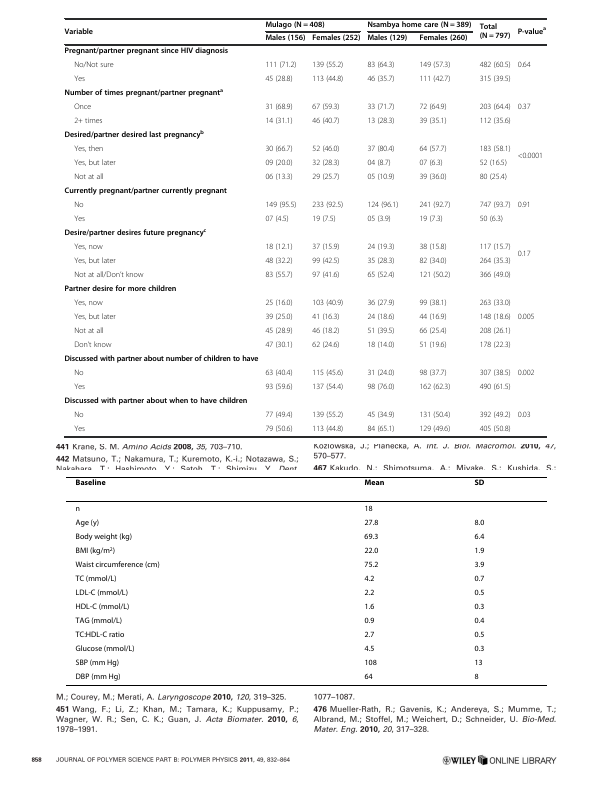borderless: (63, 17, 546, 436), (65, 475, 547, 685)
cell: (64, 355, 259, 365), (64, 397, 248, 407), (64, 88, 224, 99), (64, 47, 229, 57), (64, 187, 228, 197), (64, 228, 207, 239), (64, 130, 205, 141), (64, 285, 177, 295), (366, 21, 472, 30), (75, 560, 161, 570), (73, 271, 145, 280), (75, 644, 136, 654), (75, 532, 133, 542), (479, 23, 511, 41), (75, 602, 130, 612), (264, 21, 325, 30), (75, 588, 129, 598), (311, 34, 361, 44), (418, 34, 468, 44), (75, 630, 125, 640), (75, 616, 123, 626), (75, 672, 121, 682), (75, 658, 120, 668), (264, 34, 306, 44), (366, 34, 408, 44), (75, 574, 117, 584), (75, 546, 116, 556), (73, 159, 117, 168), (73, 257, 117, 266), (73, 313, 117, 322), (73, 61, 114, 70), (73, 341, 112, 350), (517, 26, 547, 37), (64, 27, 94, 37), (264, 61, 297, 70), (311, 61, 344, 70), (418, 61, 451, 70), (311, 75, 344, 84), (418, 75, 451, 84), (264, 201, 297, 210), (311, 201, 344, 210), (366, 201, 399, 210), (418, 201, 451, 210), (418, 271, 451, 280), (311, 299, 344, 308), (311, 369, 344, 378), (311, 383, 344, 392), (418, 383, 451, 392), (311, 411, 344, 420), (418, 411, 451, 420), (311, 425, 344, 434), (418, 425, 451, 434), (479, 61, 511, 70), (479, 75, 511, 84), (479, 103, 511, 112), (479, 117, 511, 126), (479, 145, 511, 154), (479, 201, 511, 210), (479, 243, 511, 252), (479, 257, 511, 266), (479, 271, 511, 280), (479, 299, 511, 308), (479, 313, 511, 322), (479, 327, 511, 336), (479, 341, 511, 350), (479, 369, 511, 378), (479, 383, 511, 392), (479, 411, 511, 420), (479, 425, 511, 434), (73, 145, 104, 154), (73, 173, 104, 182), (73, 243, 104, 252), (73, 299, 104, 308), (73, 327, 104, 336), (73, 117, 103, 126), (366, 61, 395, 70), (264, 75, 293, 84), (366, 75, 395, 84), (264, 103, 293, 112), (311, 103, 340, 112), (366, 103, 395, 112), (418, 103, 447, 112), (264, 117, 293, 126), (311, 117, 340, 126), (366, 117, 395, 126), (418, 117, 447, 126), (264, 145, 293, 154), (311, 145, 340, 154), (366, 145, 395, 154), (418, 145, 447, 154), (264, 159, 293, 168), (311, 159, 340, 168), (479, 159, 508, 168), (264, 173, 293, 182), (311, 173, 340, 182), (366, 173, 395, 182), (418, 173, 447, 182), (479, 173, 508, 182), (264, 243, 293, 252), (311, 243, 340, 252), (366, 243, 395, 252), (418, 243, 447, 252), (264, 257, 293, 266), (311, 257, 340, 266), (366, 257, 395, 266), (418, 257, 447, 266), (264, 271, 293, 280), (311, 271, 340, 280), (366, 271, 395, 280), (264, 299, 293, 308), (366, 299, 395, 308), (418, 299, 447, 308), (264, 313, 293, 322), (311, 313, 340, 322), (366, 313, 395, 322), (418, 313, 447, 322), (264, 327, 293, 336), (311, 327, 340, 336), (366, 327, 395, 336), (418, 327, 447, 336), (264, 341, 293, 350), (311, 341, 340, 350), (366, 341, 395, 350), (418, 341, 447, 350), (264, 369, 293, 378), (366, 369, 395, 378), (418, 369, 447, 378), (264, 383, 293, 392), (366, 383, 395, 392), (264, 411, 293, 420), (366, 411, 395, 420), (264, 425, 293, 434), (366, 425, 395, 434), (75, 478, 107, 486), (75, 518, 100, 528), (517, 152, 544, 161), (366, 159, 392, 168), (418, 159, 444, 168), (264, 215, 290, 224), (366, 215, 392, 224), (418, 215, 444, 224), (311, 215, 336, 224), (479, 215, 504, 224), (363, 478, 385, 486), (73, 103, 92, 112), (517, 313, 535, 322), (517, 369, 535, 378), (363, 518, 379, 528), (363, 532, 379, 542), (363, 546, 379, 556), (363, 560, 379, 570), (363, 658, 378, 668), (517, 61, 531, 70), (517, 103, 531, 112), (517, 201, 531, 210), (517, 250, 531, 259), (517, 411, 531, 420), (473, 518, 485, 528), (473, 532, 485, 542), (473, 546, 485, 556), (473, 560, 485, 570), (363, 574, 375, 584), (473, 574, 485, 584), (363, 588, 375, 598), (473, 588, 485, 598), (363, 602, 375, 612), (473, 602, 485, 612), (363, 616, 375, 626), (473, 616, 485, 626), (363, 630, 375, 640), (473, 630, 485, 640), (363, 644, 375, 654), (73, 75, 86, 84), (73, 215, 86, 224), (73, 383, 86, 392), (73, 425, 86, 434), (363, 504, 374, 514), (474, 644, 485, 654), (473, 658, 484, 668), (363, 672, 374, 682), (73, 201, 84, 210), (73, 369, 84, 378), (73, 411, 84, 420), (473, 478, 485, 486), (473, 672, 480, 682), (75, 504, 81, 514)
